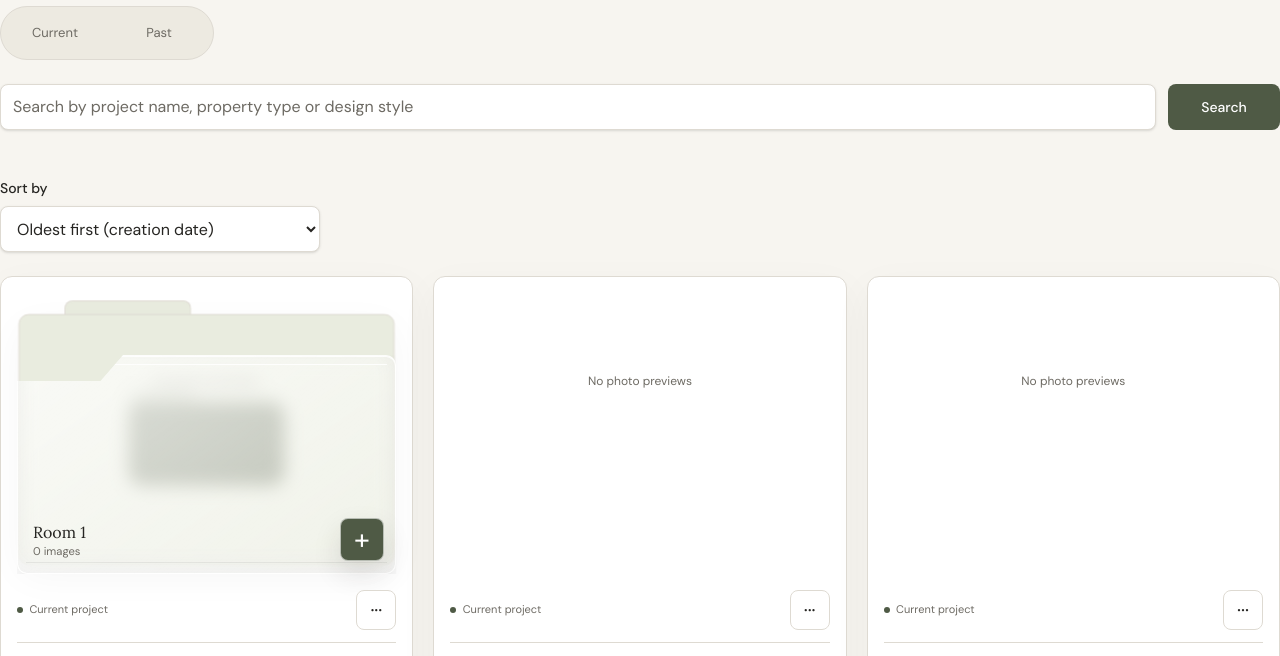
deleting the last item on the last page moves back without losing filters
Select "Name A–Z" in the dropdown labelled "Sort by" at (160, 229), box [0,206,320,252]
Type "Room" into the field labelled "Search" at (578, 107), box [0,84,1156,130]
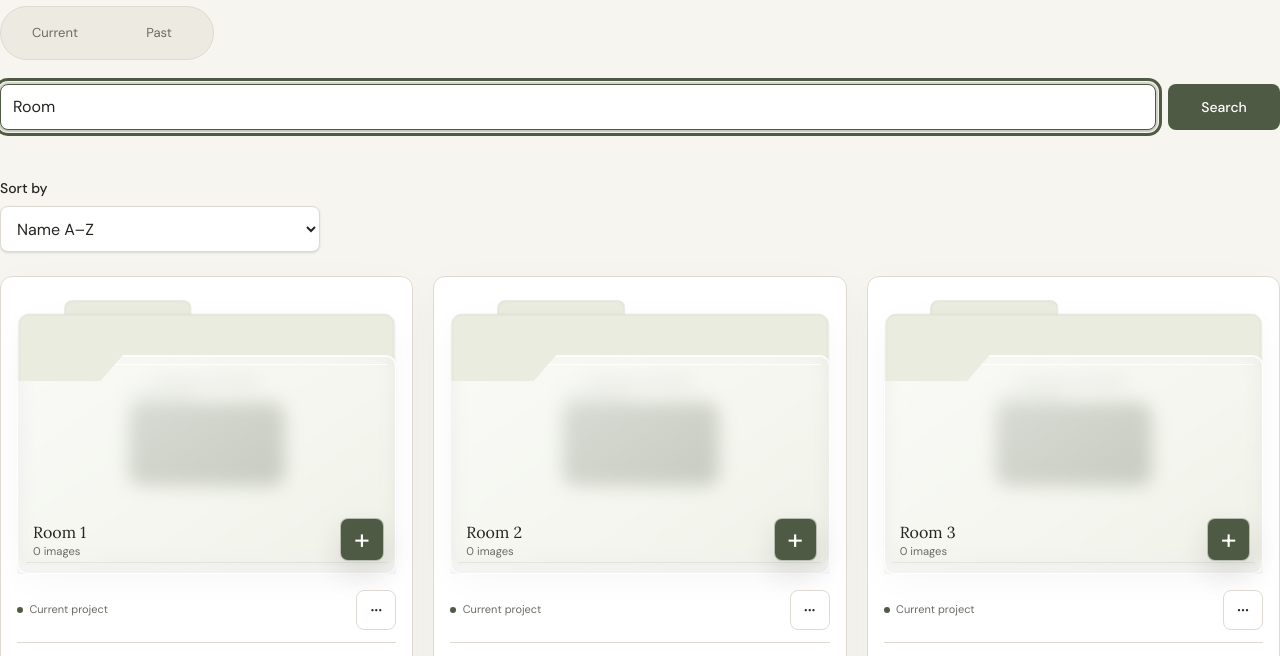
Click the button "Search" at (1224, 107), box [1168,84,1279,130]
(page scrolled)
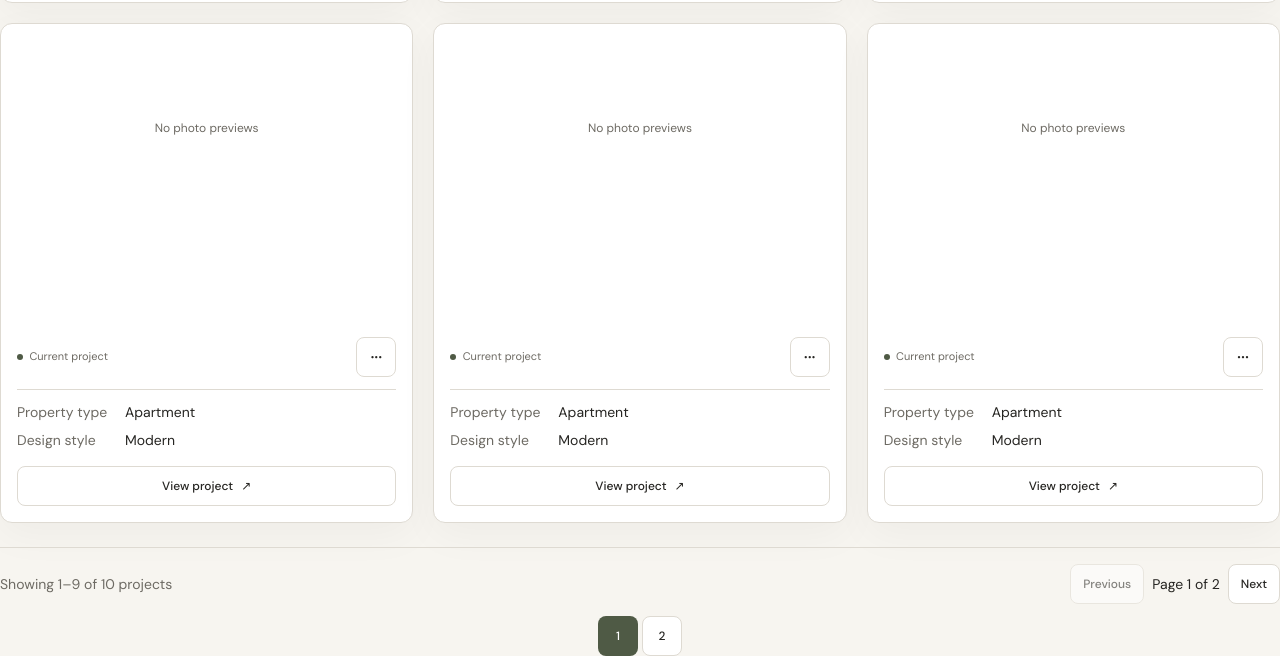
Click the button named "Page 2" at (662, 636), box [642,616,682,655]
(page scrolled)
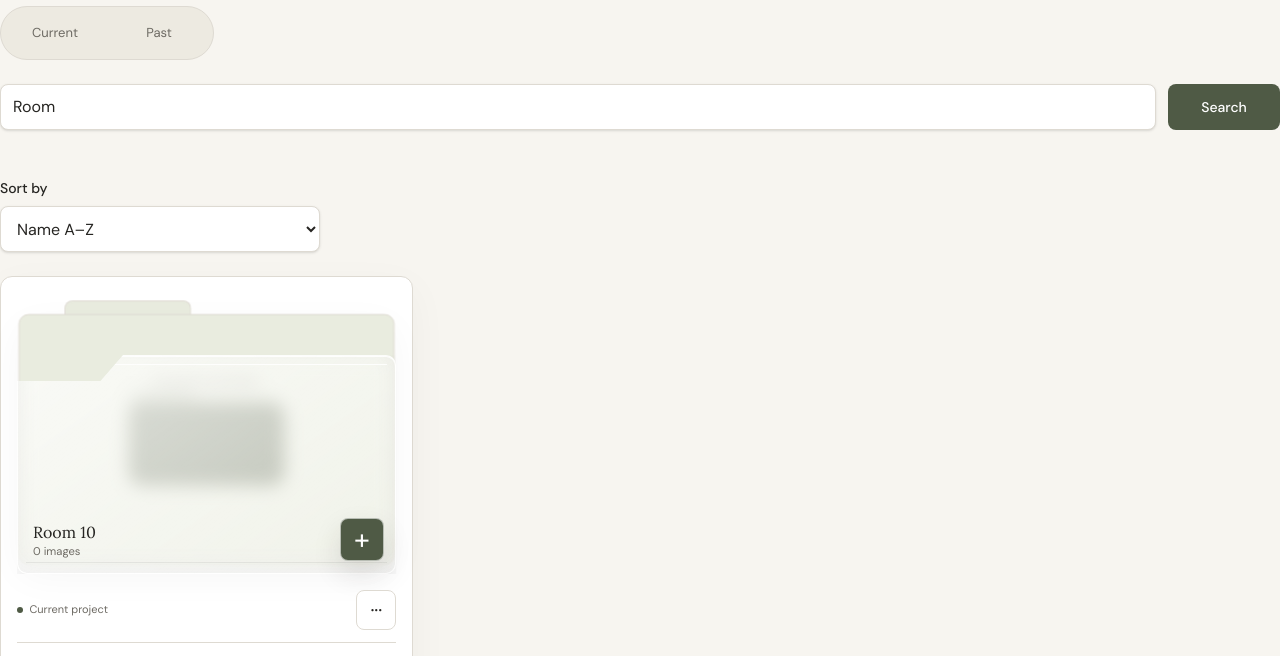
Click the heading named "More actions for Room 10" at (376, 610), box [356,590,396,630]
(page scrolled)
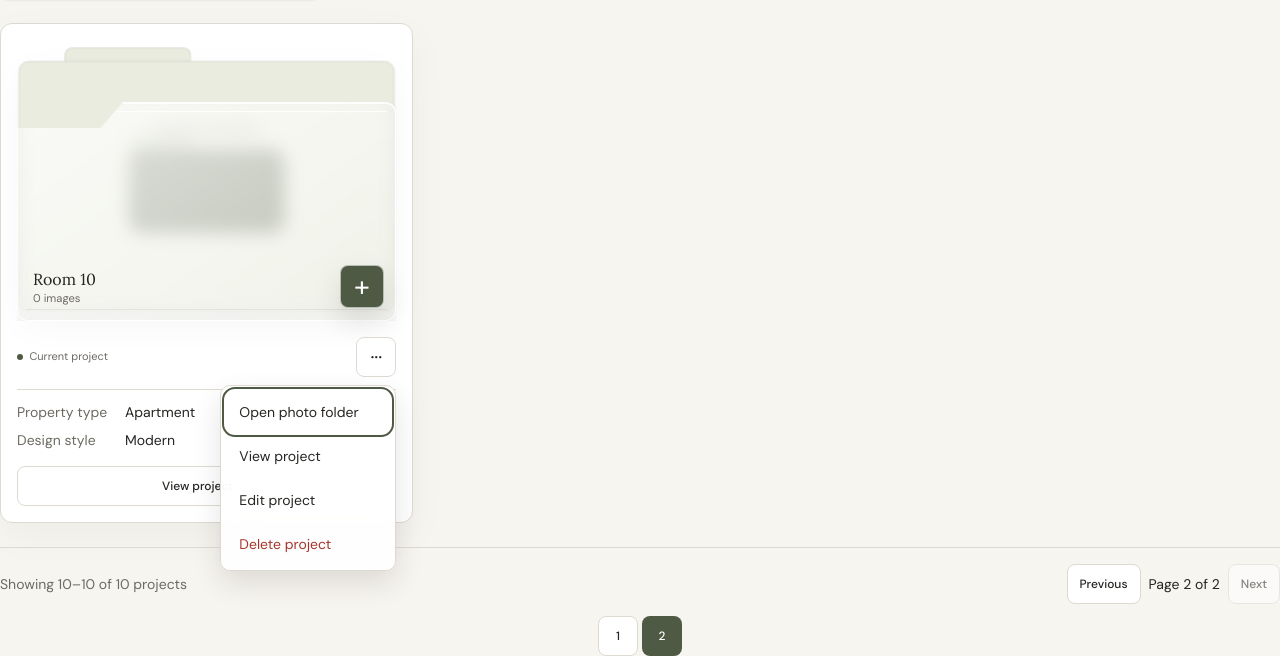
Click the menu item "Delete project" at (308, 544), box [227,524,389,564]
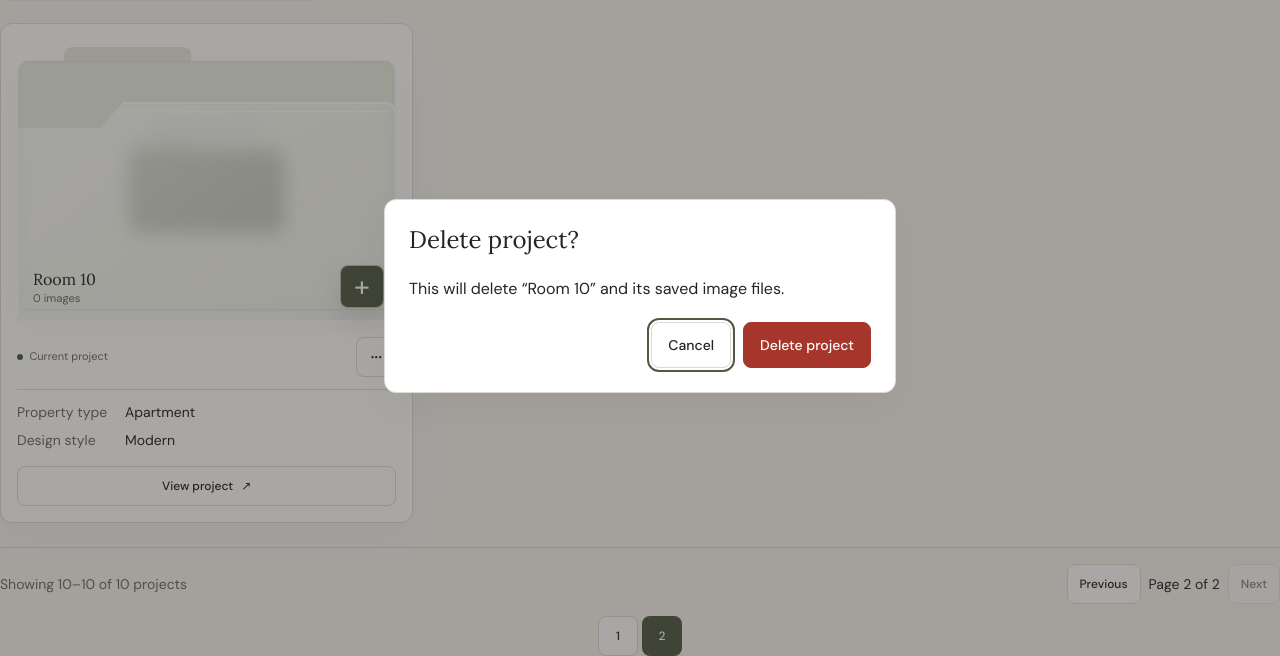
Click the button "Delete project" at (807, 345), box [743,322,871,368]
(page scrolled)
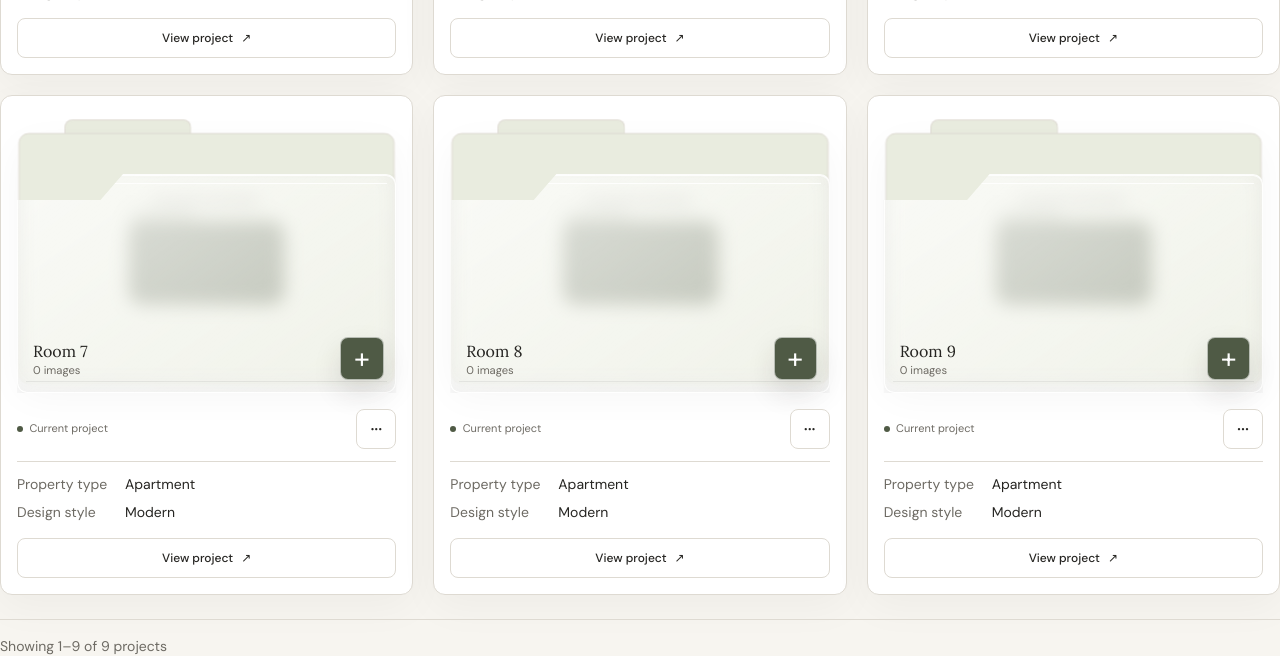
Check: the text "Showing 1–9 of 9 projects" is shown, box [0,636,167,655]
